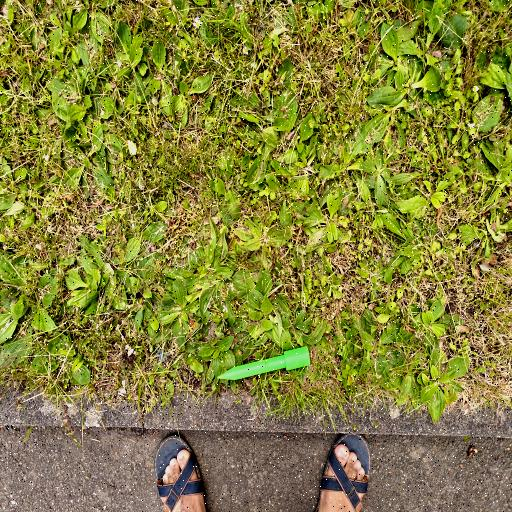Probe-Detection: (218, 346, 310, 380)
